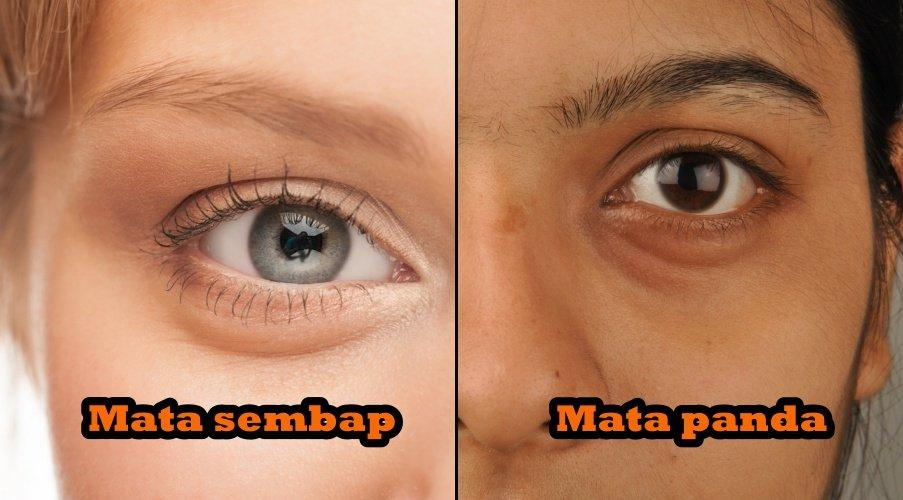Eyebags: (562, 131, 814, 301)
